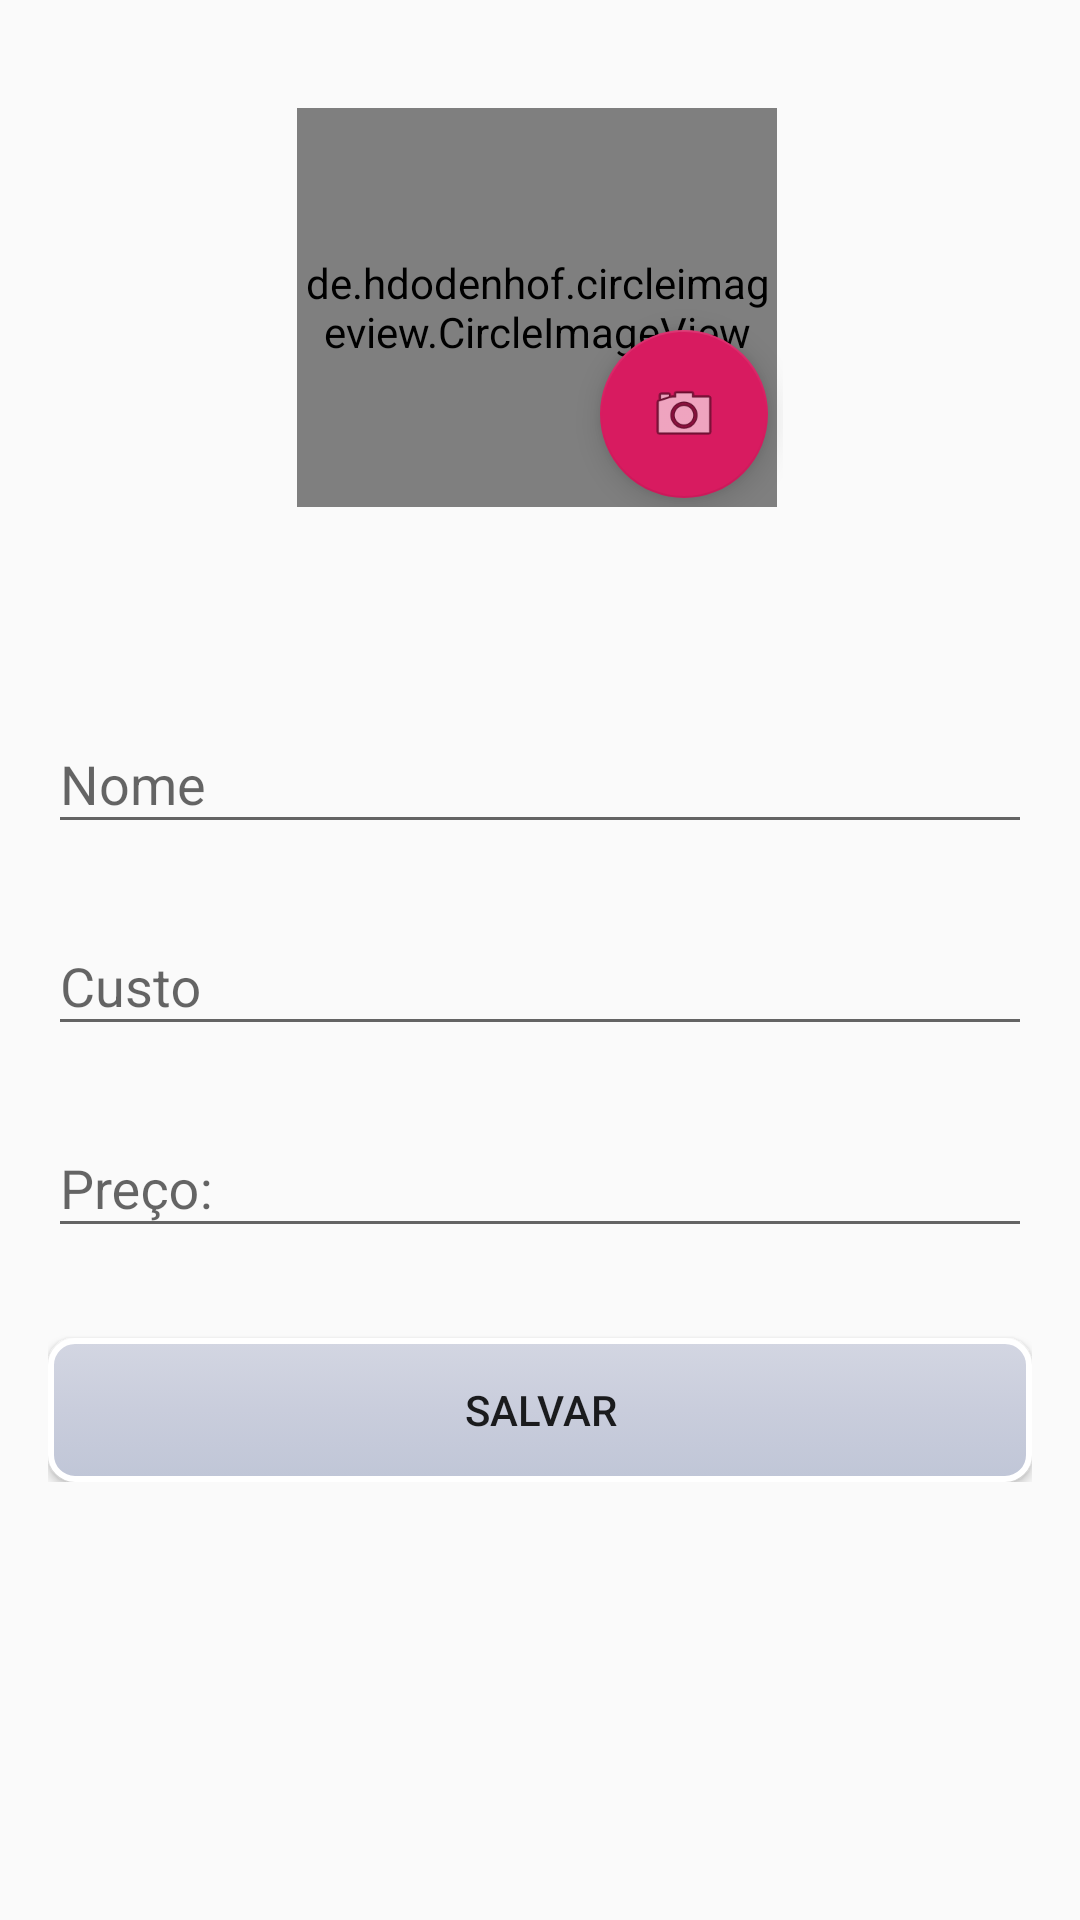

Screen size 1080 x 1920. Icon name, then its box in pixels as (x1, y1, x2, y2):
camera: (600, 330, 768, 498)
